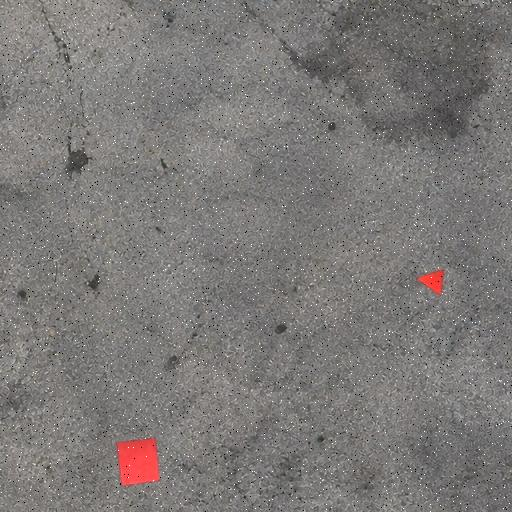RED_SQUARE: (116, 437, 160, 487)
